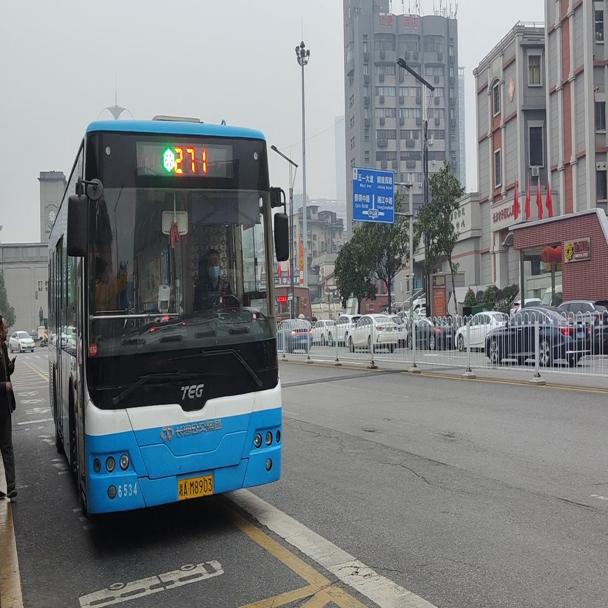bus: (46, 112, 289, 514)
screen: (175, 139, 208, 180)
